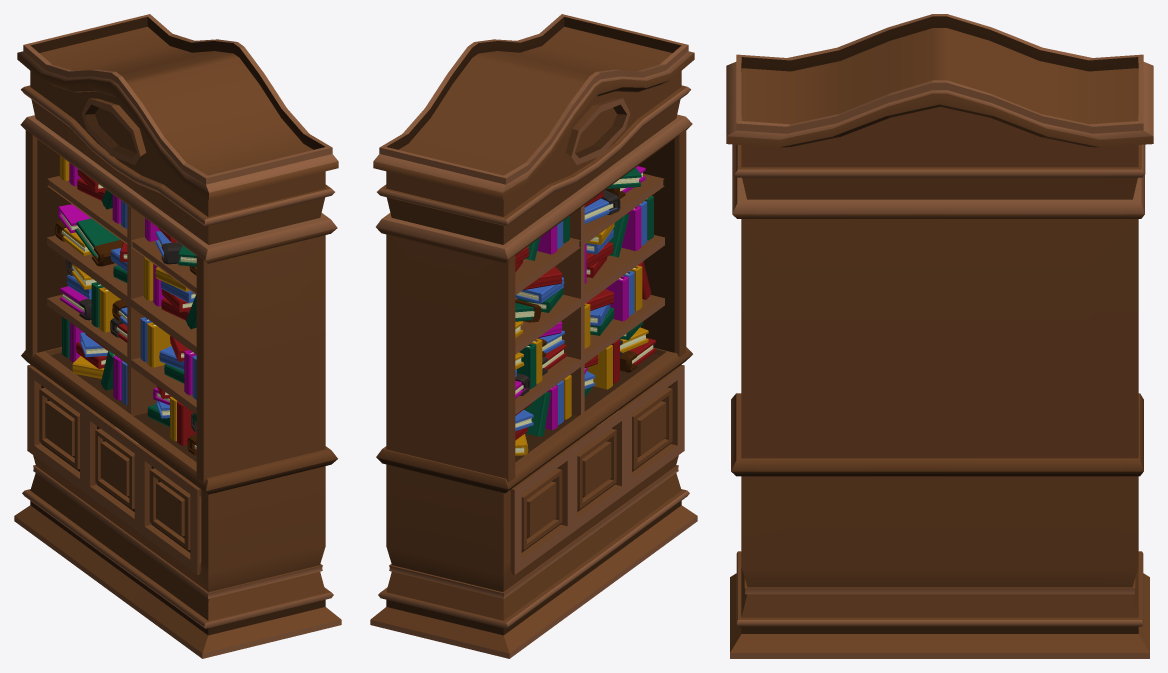
The model's file is study closet combined.fbx.
The picture shows the model from 3 angles, left to right: view 1: azimuth 30°, elevation 25°; view 2: azimuth 150°, elevation 25°; view 3: azimuth 270°, elevation 25°; orthographic projection. The views are drawn at different scales.
Visible parts, largest first — view 1: closet1, books1; view 2: closet1, books1; view 3: closet1.
Boxes of the visible parts, left/top/right/bottom form: closet1: left=14, top=14, right=341, bottom=658; books1: left=55, top=155, right=196, bottom=455; closet1: left=370, top=14, right=697, bottom=658; books1: left=515, top=166, right=655, bottom=455; closet1: left=726, top=14, right=1153, bottom=658.
Size of the model in its own units: 2.4 by 8.48 by 5.73.
